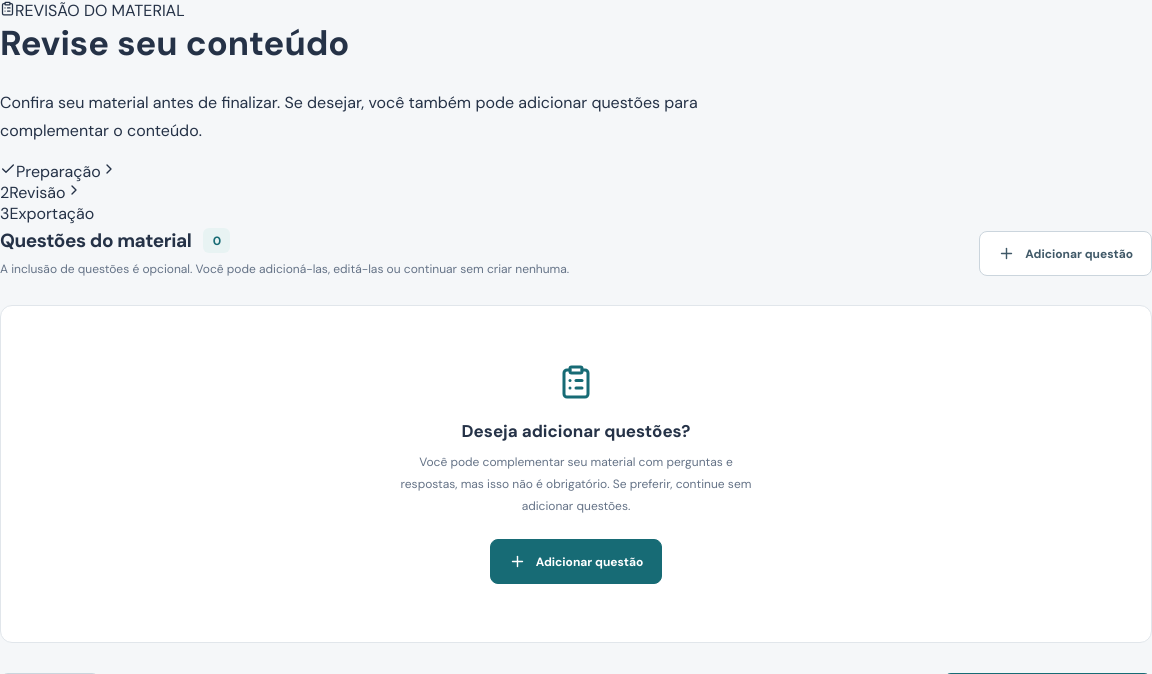
Test: página de revisão › permite adicionar questões sem utilizar IA
This screenshot has width=1152, height=674.
Expected: the heading "Deseja adicionar questões?" is shown, left=462, top=420, right=690, bottom=442
Click the button "Adicionar questão" in the row of "Questões do material": (1066, 254) left=979, top=231, right=1151, bottom=276
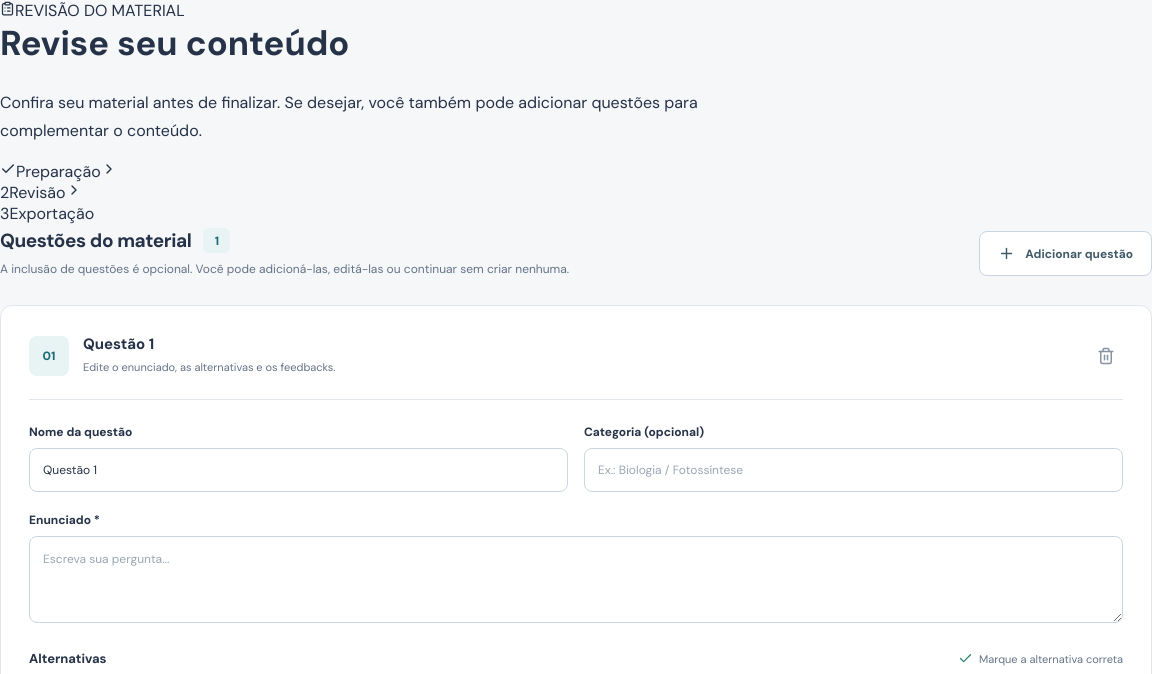
Expected: the text box labelled "Enunciado *" is shown, left=29, top=536, right=1123, bottom=623
